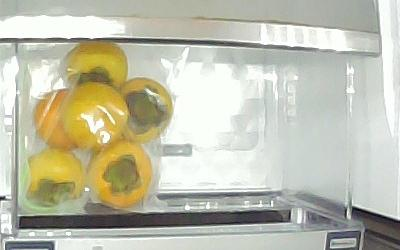persimmon_vinyl: (59, 82, 130, 150), (88, 143, 154, 209), (22, 150, 84, 208), (60, 41, 129, 93), (119, 78, 173, 144), (33, 89, 80, 151)
